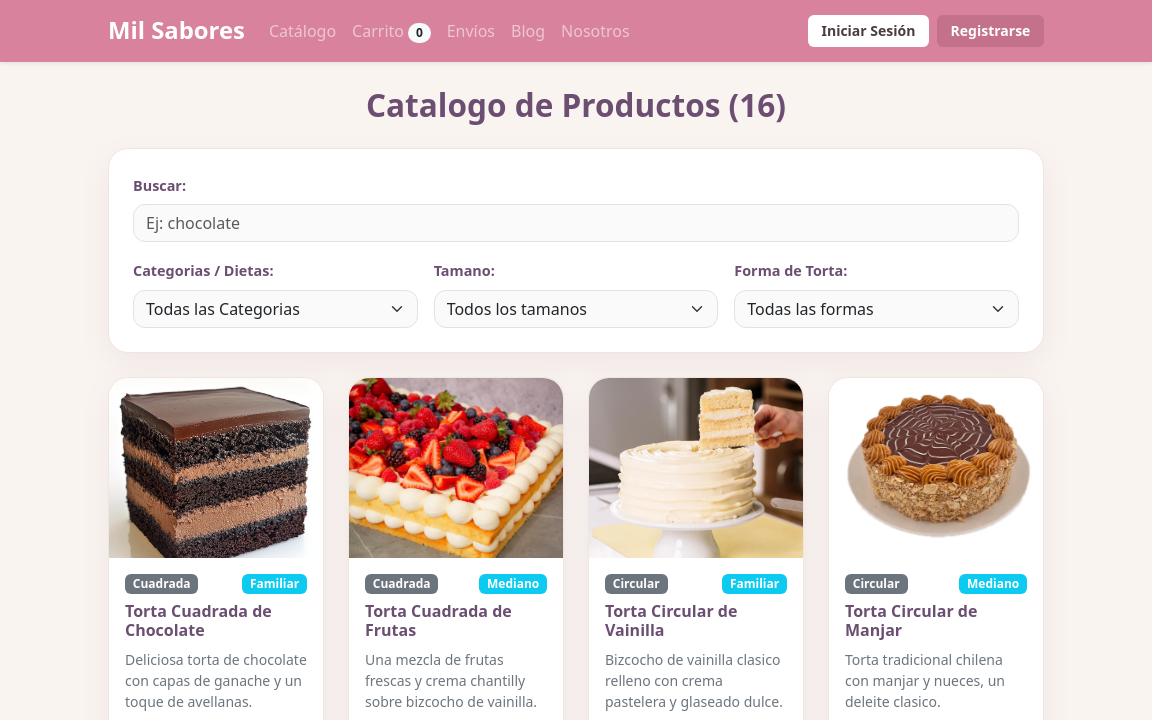
Test: Pruebas unitarias para la pagina de Catalogo en Pasteleria_MS › Filtra los productos por forma Cuadrada
This screenshot has width=1152, height=720.
Step 1. Select "Cuadradas" in the dropdown labelled "Forma de Torta:" → [877, 309], box [734,290,1019,328]
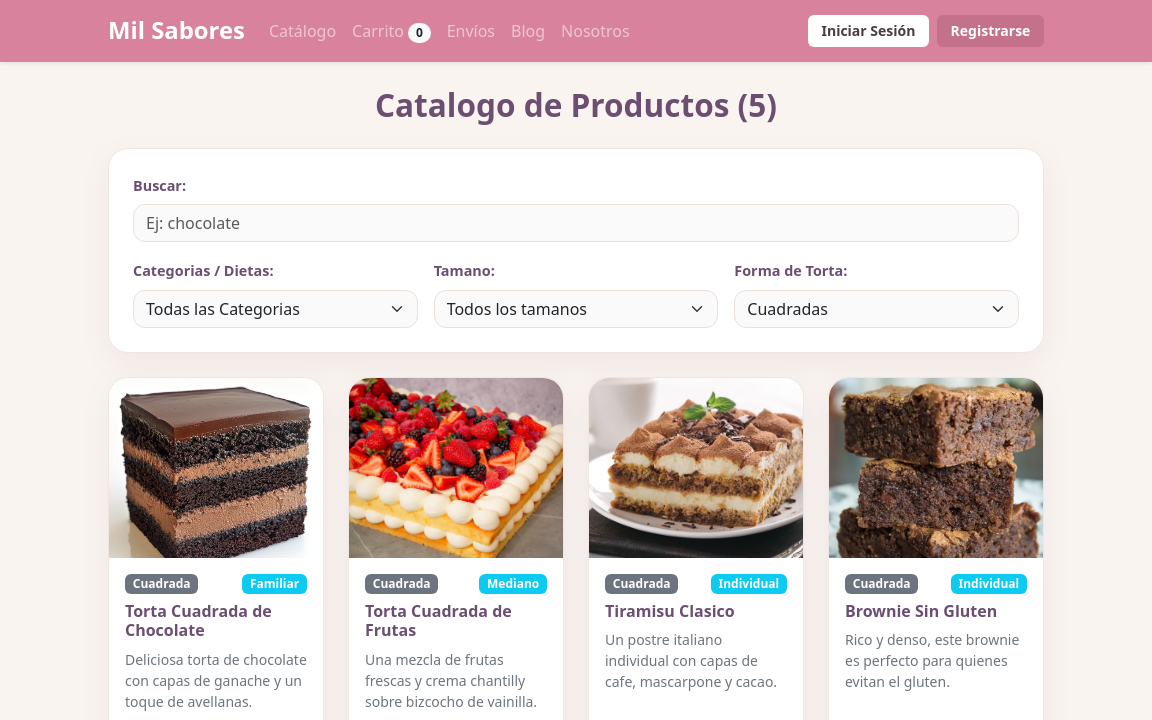
Check: the text "Torta Cuadrada de Chocolate" is shown, box [125,600,272,642]
Check: the text "Torta Circular de Vainilla" is gone
